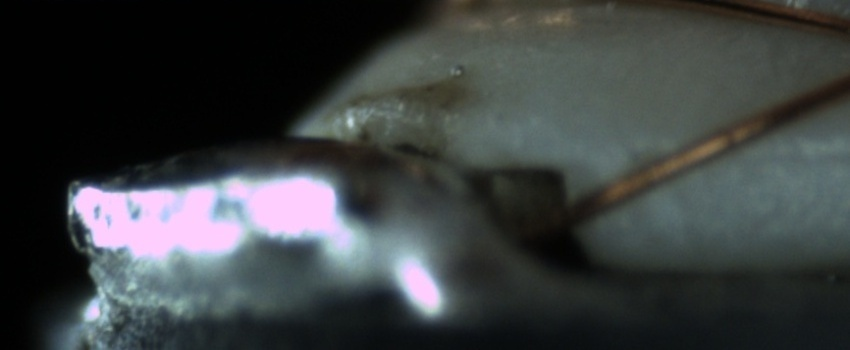DL: (706, 122, 850, 184)
